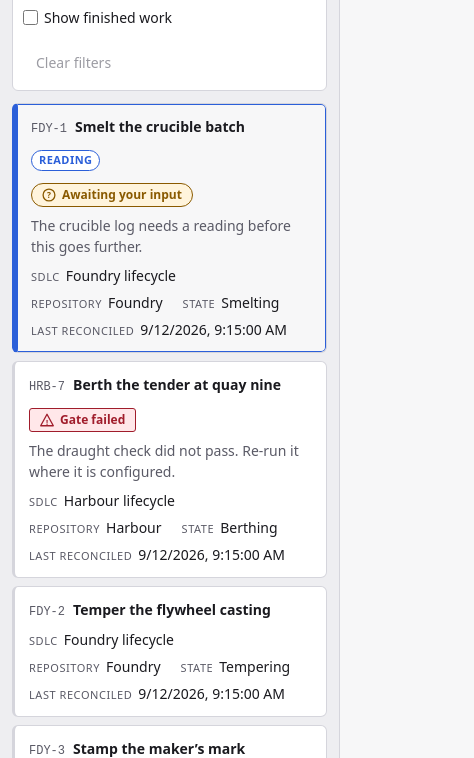
the two-pane workbench › keeps the list usable when the detail pane throws while rendering
(page scrolled)
Expected: the text "FDY-1" is shown, [31,120,67,138]
Expected: the text "Gate failed" is shown, [60,410,125,428]
Click the link "HRB-7 Berth the tender at quay nine" at (155, 384), box [29,374,281,396]
(page scrolled)
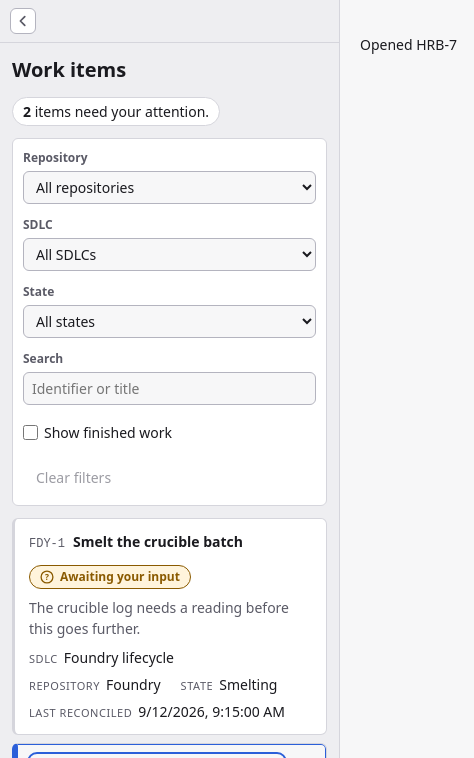
Result: the text "Opened HRB-7" is shown at [360,35,457,54]
